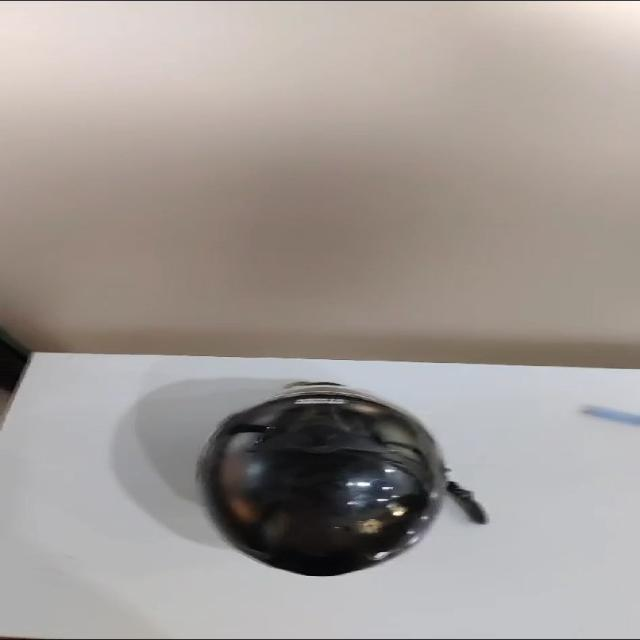helmet: (190, 372, 465, 577)
